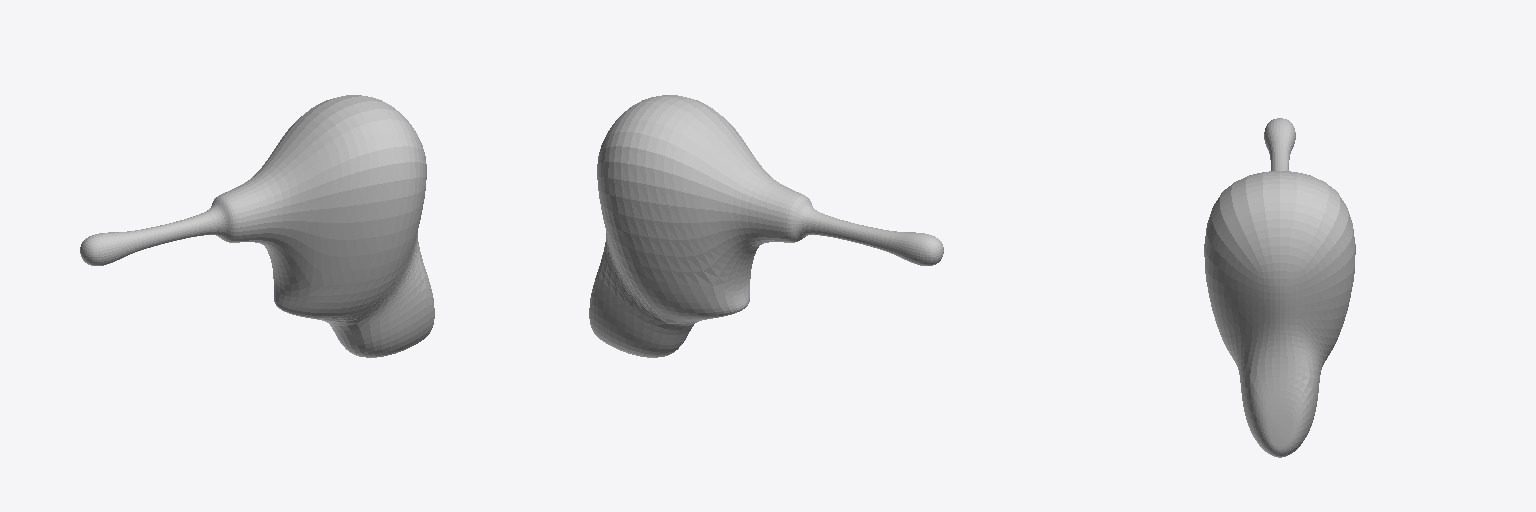
The model's file is alienhead.obj.
The picture shows the model from 3 angles: view 1: azimuth 30°, elevation 25°; view 2: azimuth 150°, elevation 25°; view 3: azimuth 270°, elevation 25°; orthographic projection.
Visible parts, largest first — view 1: pCube1; view 2: pCube1; view 3: pCube1.
Part boxes in pixels (bbox=[...]): pCube1: bbox=[80, 95, 434, 357]; pCube1: bbox=[589, 95, 943, 357]; pCube1: bbox=[1204, 118, 1355, 457].
Size of the model in its own units: 11.27 by 7.94 by 4.25.